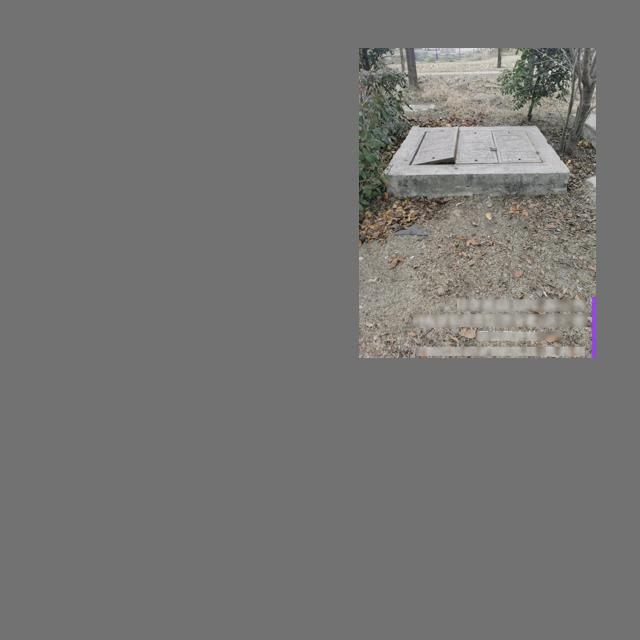uncovered: (403, 119, 545, 170)
